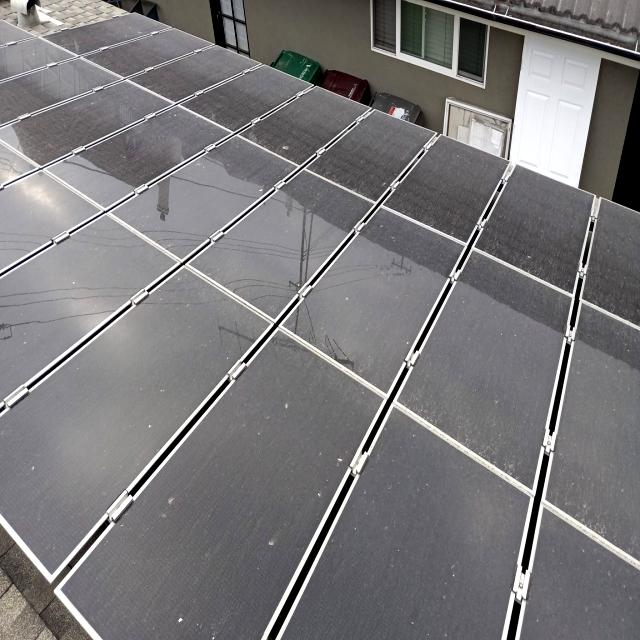dust: (56, 36, 245, 215), (407, 294, 538, 476), (583, 288, 640, 640), (247, 375, 355, 550), (251, 118, 399, 236), (5, 378, 96, 539), (149, 253, 222, 441), (115, 500, 218, 630), (322, 204, 397, 346), (414, 508, 484, 640), (8, 238, 76, 364), (512, 170, 574, 274), (411, 150, 478, 234), (603, 206, 640, 305)
